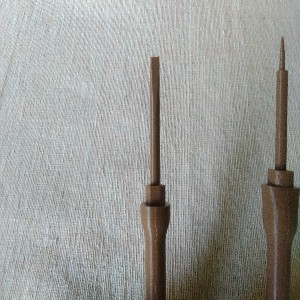obeng: (140, 55, 171, 300)
solder: (260, 35, 300, 300)
